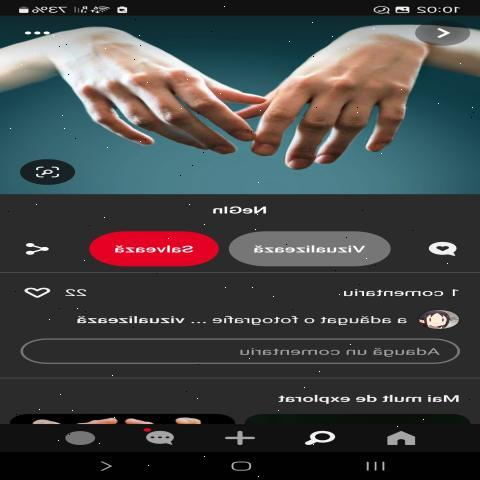Hands: (40, 16, 258, 182), (240, 22, 452, 192)
